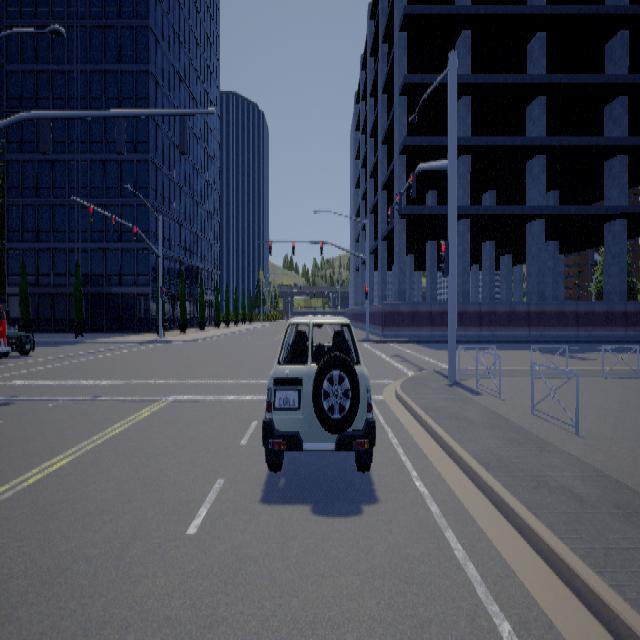red_light: (438, 239, 448, 276), (407, 170, 415, 197), (395, 190, 401, 214), (86, 204, 93, 224), (109, 214, 115, 232), (387, 204, 392, 224), (131, 224, 136, 241), (159, 285, 164, 298), (364, 285, 369, 298), (268, 239, 271, 254), (292, 239, 294, 254), (320, 240, 322, 254)
vehicle: (261, 305, 375, 471), (0, 303, 34, 357)
